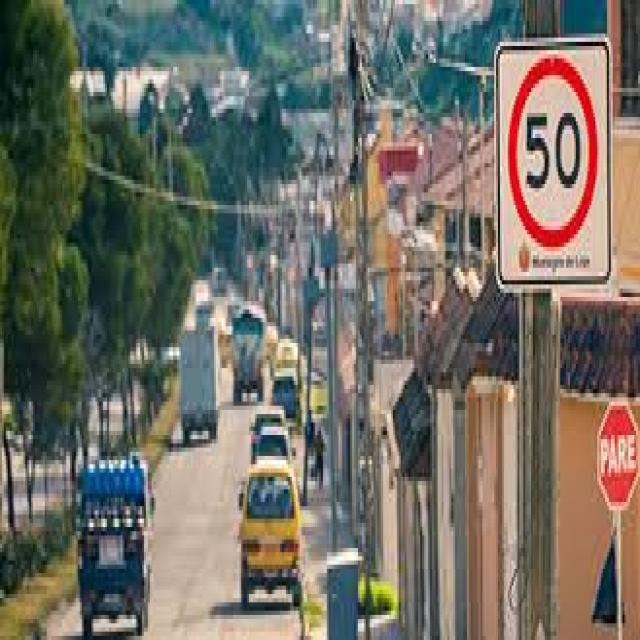Speed limit 50: (508, 53, 602, 255)
